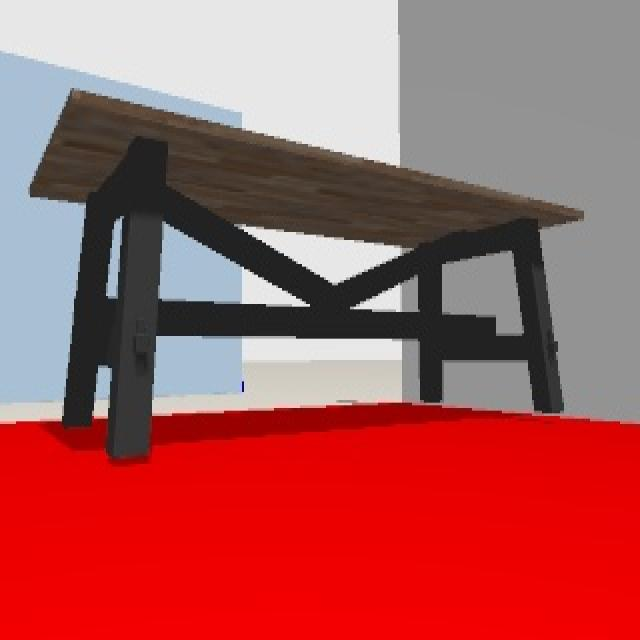dining: (29, 86, 574, 452)
